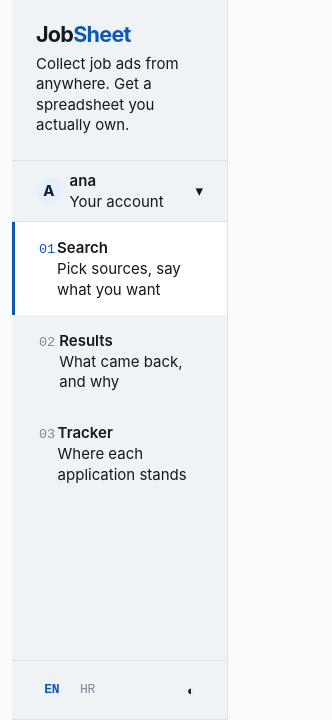
the profile menu › leads to the one search this account has, and to the settings
The image size is (332, 720).
Click the button "A ana Your account ▾". click: (120, 191)
box: [12,161,227,221]
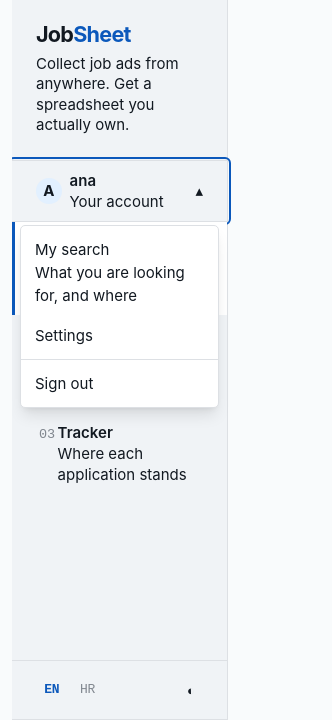
Now the menu is shown, box [20,225,219,408]
